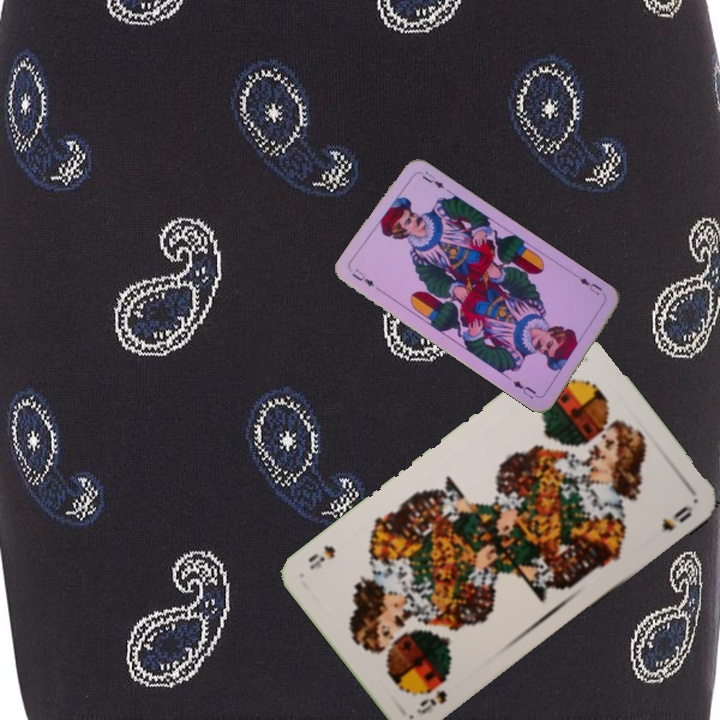EU: (572, 271, 608, 299), (348, 264, 377, 289)
SO: (413, 686, 450, 718)
